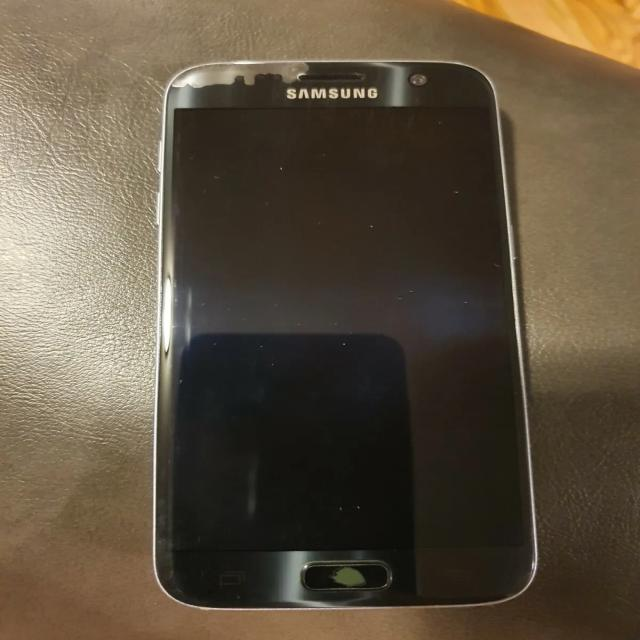Dents: (176, 46, 315, 99)
